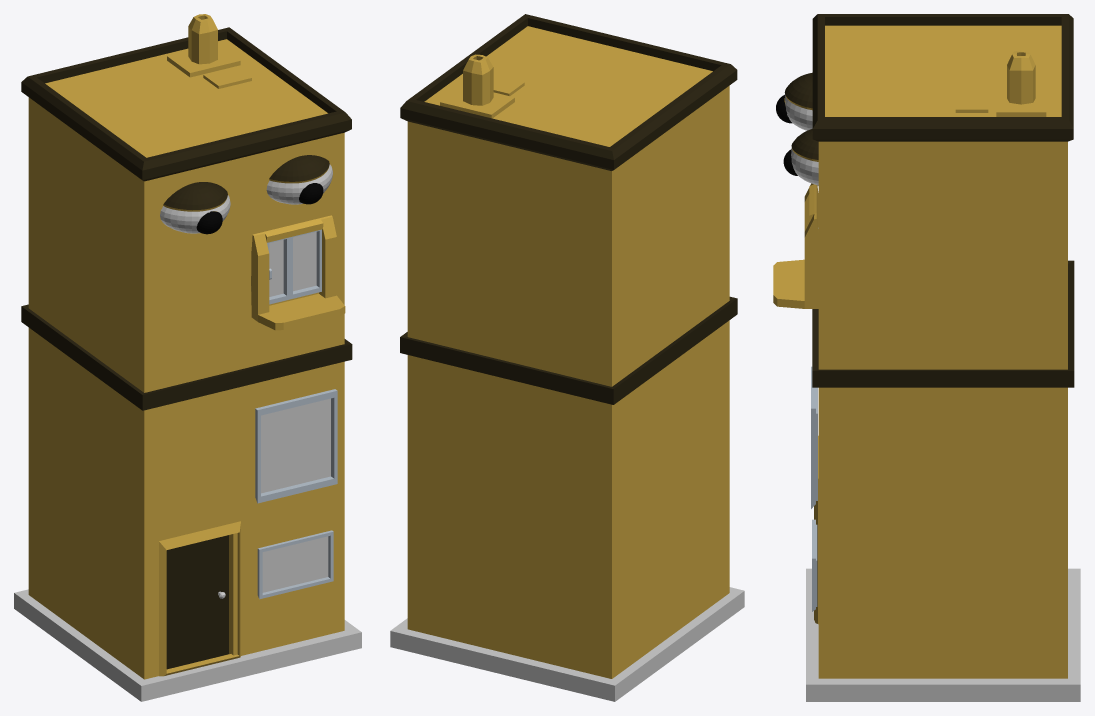
The model's file is building_lg_normal.obj.
3 views of the same model, side by side, from view 1: azimuth 30°, elevation 25°; view 2: azimuth 150°, elevation 25°; view 3: azimuth 270°, elevation 25° (orthographic). The views are drawn at different scales.
Parts seen in each view (by area): view 1: Building_lg_normal; view 2: Building_lg_normal; view 3: Building_lg_normal.
Boxes of the visible parts, left/top/right/bottom form: Building_lg_normal: left=14, top=14, right=361, bottom=701; Building_lg_normal: left=390, top=14, right=744, bottom=701; Building_lg_normal: left=773, top=14, right=1080, bottom=701.
Size of the model in its own units: 2.2 by 5.46 by 2.46.
